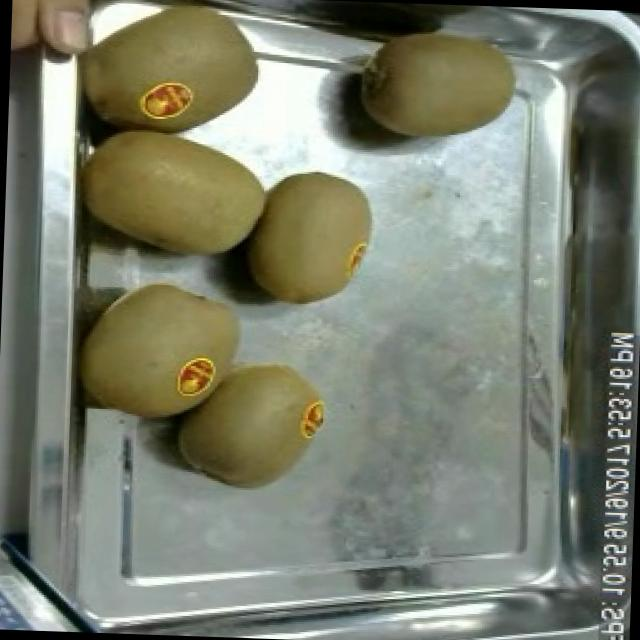Fruit: (70, 268, 250, 432), (78, 127, 277, 270), (63, 0, 272, 136), (168, 348, 334, 498), (344, 13, 526, 149), (234, 159, 382, 314), (8, 0, 103, 66)
